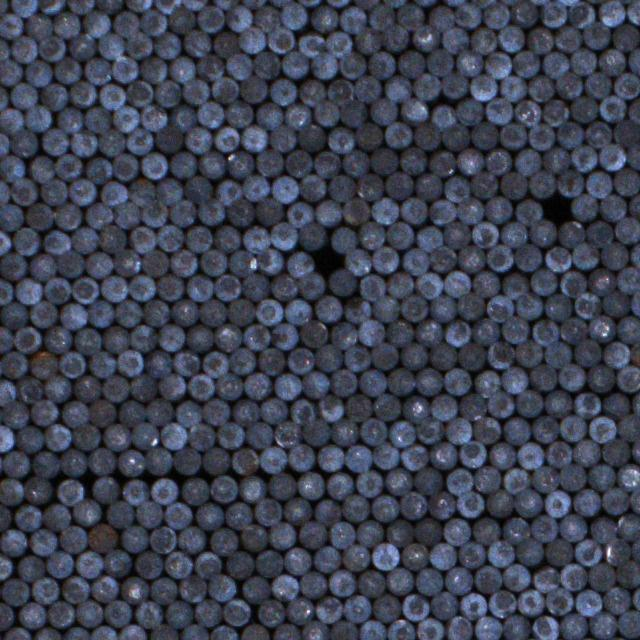tool: (156, 125, 184, 154), (146, 446, 174, 474), (471, 122, 499, 150), (182, 29, 210, 57), (582, 22, 610, 50), (198, 198, 226, 226), (514, 488, 542, 516), (56, 153, 84, 181), (472, 518, 500, 546), (256, 102, 284, 130), (414, 467, 442, 495), (28, 526, 56, 554), (207, 574, 235, 602), (53, 202, 81, 230), (16, 426, 44, 454), (588, 612, 616, 640), (88, 522, 116, 550), (43, 502, 71, 530), (72, 374, 100, 402), (256, 197, 284, 225), (600, 439, 628, 467), (14, 504, 42, 532), (24, 476, 52, 504), (283, 548, 310, 576), (361, 416, 388, 444), (203, 447, 230, 475), (256, 148, 283, 176), (115, 300, 142, 328), (342, 542, 369, 570), (598, 96, 626, 123), (301, 320, 328, 348), (253, 52, 280, 80), (558, 514, 585, 542), (544, 391, 572, 418), (56, 479, 84, 506), (195, 552, 222, 580), (141, 248, 168, 276), (558, 362, 586, 389), (270, 220, 297, 248), (587, 462, 614, 490), (223, 598, 250, 626), (384, 468, 411, 496), (528, 362, 555, 390), (342, 594, 369, 622), (218, 420, 245, 448), (285, 596, 312, 624), (373, 594, 400, 622), (474, 564, 501, 592), (255, 550, 282, 578), (30, 576, 57, 604), (210, 526, 237, 554), (61, 575, 88, 603), (71, 424, 99, 451), (546, 588, 573, 616), (272, 372, 300, 399), (76, 550, 103, 578), (0, 578, 27, 606), (224, 100, 251, 128), (184, 324, 212, 351), (59, 525, 86, 553), (43, 127, 70, 155), (82, 9, 110, 36), (26, 255, 54, 282), (344, 296, 371, 324), (173, 448, 200, 475), (502, 317, 529, 344), (598, 143, 625, 170), (253, 497, 280, 524), (373, 394, 400, 421), (115, 349, 142, 376), (487, 342, 514, 369), (545, 537, 572, 564), (270, 573, 297, 600), (103, 424, 130, 451), (385, 172, 412, 199), (487, 489, 514, 516), (414, 72, 441, 99), (185, 176, 212, 203), (88, 349, 115, 376), (516, 340, 543, 367), (98, 225, 125, 252), (88, 448, 115, 475), (131, 421, 158, 448), (268, 26, 295, 53), (32, 450, 59, 477), (199, 298, 225, 326), (488, 590, 514, 618), (386, 518, 412, 546), (271, 175, 297, 203), (135, 552, 161, 580), (73, 274, 99, 302), (414, 366, 440, 394), (227, 550, 253, 578), (151, 526, 177, 554), (385, 566, 411, 594), (588, 562, 614, 590), (113, 154, 139, 182), (256, 298, 282, 326), (262, 446, 288, 474), (242, 576, 268, 604), (72, 498, 100, 524), (114, 248, 140, 276), (516, 536, 542, 564), (170, 248, 196, 276), (502, 364, 528, 392), (368, 52, 394, 80), (400, 492, 426, 520), (243, 372, 269, 400), (559, 564, 585, 592), (342, 495, 368, 523), (11, 228, 37, 256), (126, 129, 154, 155), (157, 324, 183, 352), (328, 174, 354, 202), (402, 592, 428, 620), (300, 221, 326, 249), (503, 564, 529, 592), (528, 218, 554, 246), (584, 120, 610, 148), (614, 167, 640, 195), (556, 122, 582, 150), (328, 520, 354, 548), (28, 352, 56, 378), (358, 220, 384, 248), (372, 342, 398, 370), (122, 576, 148, 604), (372, 246, 398, 274), (332, 420, 358, 448), (431, 592, 457, 620), (188, 422, 214, 450), (268, 77, 294, 105), (178, 574, 204, 602), (136, 600, 162, 628), (215, 324, 241, 352), (516, 390, 542, 418), (446, 566, 472, 594), (486, 96, 512, 124), (340, 52, 366, 80), (544, 292, 570, 320), (103, 550, 129, 578), (258, 348, 286, 374), (46, 324, 72, 352), (544, 340, 570, 368), (387, 366, 413, 394), (202, 350, 228, 378), (166, 600, 192, 628), (194, 598, 220, 626), (140, 198, 166, 226), (14, 278, 42, 304), (298, 470, 324, 498), (202, 398, 228, 426), (458, 591, 484, 619), (342, 148, 368, 176), (484, 52, 510, 80), (314, 198, 340, 226), (60, 448, 86, 476), (76, 598, 102, 626), (242, 225, 268, 253), (45, 424, 71, 452), (403, 248, 429, 276), (284, 148, 310, 176), (186, 374, 212, 402), (443, 518, 469, 546), (24, 103, 50, 131), (242, 174, 268, 202), (87, 300, 113, 328), (28, 398, 56, 424), (46, 600, 72, 628), (574, 290, 600, 318), (300, 174, 326, 202), (18, 602, 46, 628), (518, 442, 544, 470), (472, 317, 498, 345), (401, 294, 427, 322), (356, 172, 382, 200), (302, 371, 328, 399), (414, 516, 440, 544), (614, 22, 640, 50), (156, 176, 182, 204), (45, 374, 71, 402), (298, 80, 326, 106), (102, 326, 128, 354), (528, 169, 554, 197), (146, 350, 172, 378), (199, 150, 225, 178), (98, 128, 124, 156), (456, 196, 482, 224), (340, 5, 366, 33), (92, 574, 118, 602), (130, 374, 156, 402), (444, 220, 470, 248), (572, 194, 598, 222), (310, 4, 336, 32), (382, 23, 408, 51), (212, 225, 238, 253), (331, 322, 357, 350), (298, 123, 324, 151), (554, 24, 580, 52), (456, 292, 482, 320), (415, 122, 441, 150), (228, 198, 254, 226), (330, 270, 358, 296), (274, 421, 300, 449), (328, 472, 354, 500), (60, 302, 86, 330), (604, 538, 630, 566), (16, 554, 44, 580), (298, 32, 326, 58), (94, 475, 120, 503), (144, 299, 170, 326), (258, 599, 284, 626), (12, 177, 38, 204), (100, 275, 126, 302), (113, 104, 139, 131), (200, 249, 227, 275), (229, 299, 255, 326), (239, 76, 265, 103), (140, 105, 166, 132), (574, 439, 600, 466), (198, 101, 224, 128), (56, 250, 83, 276), (414, 568, 441, 594), (572, 489, 598, 516), (486, 540, 512, 567), (167, 501, 193, 528), (471, 170, 497, 197), (571, 242, 597, 269), (517, 588, 543, 615), (127, 32, 153, 59), (514, 243, 540, 270), (512, 51, 538, 78), (472, 220, 498, 247), (558, 415, 584, 442), (185, 224, 212, 250), (25, 202, 52, 228), (85, 59, 112, 85), (359, 368, 386, 394), (571, 144, 597, 171), (484, 197, 510, 224), (14, 326, 41, 352), (458, 442, 484, 469), (401, 198, 427, 225), (346, 445, 372, 472), (431, 442, 457, 469), (544, 489, 570, 516), (588, 315, 614, 342), (159, 374, 186, 400), (344, 393, 370, 420), (372, 198, 398, 225), (558, 464, 584, 491), (197, 5, 223, 32), (187, 274, 214, 300), (356, 469, 382, 496), (310, 53, 336, 80), (55, 57, 81, 84), (473, 416, 500, 442), (185, 128, 212, 154), (210, 475, 236, 502), (384, 122, 411, 148), (147, 399, 173, 426), (179, 526, 205, 553), (415, 173, 441, 200), (415, 319, 441, 346), (161, 424, 187, 451), (314, 345, 340, 372), (155, 81, 181, 108), (557, 170, 583, 197), (455, 98, 481, 125), (503, 418, 530, 444), (352, 76, 378, 103), (104, 599, 130, 626), (69, 178, 96, 204), (386, 222, 412, 249), (570, 47, 596, 74), (241, 126, 267, 153), (41, 84, 68, 110), (76, 328, 102, 355), (173, 400, 200, 426), (428, 491, 454, 518), (328, 570, 354, 597), (430, 541, 456, 568), (402, 342, 428, 369), (268, 474, 294, 501), (318, 394, 344, 421), (604, 587, 630, 614), (281, 51, 307, 78), (41, 178, 68, 204), (588, 416, 614, 443), (215, 373, 241, 400), (154, 31, 180, 58), (531, 416, 557, 443), (226, 501, 252, 528), (312, 151, 338, 178), (588, 363, 614, 390), (130, 325, 156, 352), (231, 398, 258, 424), (511, 0, 538, 26), (314, 294, 340, 321), (210, 77, 237, 103), (502, 518, 529, 544), (358, 569, 384, 596), (168, 7, 194, 34), (197, 502, 223, 529), (152, 477, 178, 504), (136, 501, 162, 528), (68, 34, 95, 60), (150, 577, 176, 604), (598, 49, 624, 76), (598, 194, 624, 221), (258, 249, 284, 276), (226, 5, 252, 32), (541, 52, 567, 79), (370, 98, 396, 125), (585, 170, 611, 197), (184, 477, 210, 504), (540, 98, 566, 125), (85, 105, 111, 132), (1, 451, 28, 477), (43, 230, 70, 256), (280, 1, 306, 28), (98, 84, 125, 110), (604, 392, 631, 418), (588, 269, 614, 296), (86, 202, 113, 228), (412, 24, 438, 51), (442, 123, 468, 150), (556, 71, 582, 98), (169, 105, 195, 132), (111, 12, 138, 38), (396, 3, 423, 29), (515, 200, 542, 226), (1, 401, 27, 428), (128, 178, 154, 205), (482, 1, 508, 28), (615, 558, 640, 586), (456, 491, 484, 516), (444, 367, 469, 395), (341, 99, 366, 127), (457, 246, 482, 274), (401, 147, 426, 175), (0, 252, 25, 280), (458, 342, 483, 370), (404, 396, 429, 424), (269, 522, 295, 548), (232, 448, 258, 474), (242, 324, 268, 350), (559, 614, 585, 640), (164, 552, 190, 578), (128, 274, 154, 300), (475, 467, 501, 493), (559, 318, 585, 344), (158, 274, 184, 300), (456, 149, 482, 175), (30, 302, 56, 328), (300, 570, 326, 596), (288, 445, 314, 471), (415, 273, 441, 299), (183, 78, 209, 104), (546, 442, 572, 468), (85, 251, 111, 277), (230, 348, 256, 374), (374, 443, 400, 469), (473, 272, 499, 298), (168, 200, 194, 226), (284, 498, 310, 524), (301, 418, 327, 444), (488, 391, 514, 417), (98, 34, 124, 60), (158, 224, 184, 250), (402, 542, 428, 568), (46, 552, 72, 578), (101, 376, 127, 402), (526, 124, 552, 150), (502, 172, 528, 198), (532, 465, 558, 491), (171, 299, 197, 325), (227, 152, 253, 178), (574, 392, 600, 418), (346, 249, 372, 275), (458, 393, 484, 419), (24, 60, 50, 86), (214, 274, 240, 300), (42, 277, 68, 303), (318, 445, 344, 471), (530, 514, 556, 540), (238, 27, 264, 53), (514, 99, 540, 125), (501, 222, 527, 248), (313, 546, 339, 572), (442, 27, 468, 53), (270, 322, 296, 348), (100, 180, 126, 206), (574, 340, 600, 366), (372, 542, 398, 568), (129, 226, 155, 252), (226, 53, 252, 79), (246, 422, 272, 448), (343, 344, 369, 370), (499, 74, 525, 100), (374, 294, 400, 320), (398, 52, 424, 78), (356, 520, 382, 546), (142, 152, 168, 178), (69, 82, 95, 108), (430, 200, 456, 226), (600, 0, 626, 26), (372, 496, 398, 522), (300, 522, 326, 548), (196, 55, 222, 81), (544, 246, 570, 272), (169, 151, 195, 177), (168, 58, 194, 84), (530, 270, 556, 296), (444, 272, 470, 298), (126, 80, 152, 106), (526, 74, 552, 100), (542, 1, 568, 27), (585, 72, 611, 98), (53, 11, 79, 37), (485, 149, 511, 175), (359, 320, 385, 346), (112, 56, 138, 82), (403, 444, 429, 470), (370, 148, 396, 174), (572, 96, 598, 122), (472, 76, 498, 102), (574, 538, 600, 564), (139, 56, 165, 82), (328, 128, 354, 154), (488, 443, 514, 469), (72, 228, 98, 254), (118, 450, 144, 476), (122, 525, 148, 551), (602, 488, 628, 514), (40, 34, 66, 60), (586, 221, 612, 247), (558, 221, 584, 247), (12, 36, 38, 62), (442, 72, 468, 98), (383, 75, 409, 101), (354, 124, 380, 150), (314, 596, 340, 622), (430, 294, 456, 320), (428, 248, 454, 274), (59, 351, 85, 377), (432, 342, 458, 368), (270, 126, 296, 152), (284, 299, 310, 325), (299, 272, 325, 298), (575, 590, 601, 616), (327, 78, 353, 104), (240, 524, 266, 550), (288, 202, 314, 228), (487, 294, 513, 320), (516, 292, 542, 318), (415, 224, 441, 250), (230, 250, 256, 276), (172, 348, 198, 374), (12, 84, 38, 110), (342, 198, 368, 224), (474, 369, 500, 395), (286, 252, 312, 278), (600, 242, 626, 268), (290, 399, 316, 425), (16, 376, 42, 402), (142, 10, 168, 36), (26, 14, 52, 40), (109, 502, 135, 528), (360, 275, 386, 301), (526, 28, 552, 54), (428, 149, 454, 175), (11, 130, 37, 156), (429, 6, 455, 32), (444, 321, 470, 347), (118, 400, 144, 426), (558, 270, 584, 296), (238, 476, 264, 502), (416, 416, 442, 442), (72, 130, 98, 156), (272, 274, 298, 300), (542, 146, 568, 172), (286, 103, 312, 129), (590, 516, 616, 542), (531, 567, 557, 593), (354, 26, 380, 52), (605, 342, 631, 368), (62, 401, 88, 427), (533, 319, 559, 345), (502, 272, 528, 298), (368, 4, 394, 30), (214, 178, 240, 204), (331, 226, 357, 252), (314, 500, 340, 526), (255, 6, 281, 32), (454, 2, 480, 28), (402, 98, 428, 124), (568, 1, 594, 27), (602, 290, 628, 316), (57, 106, 83, 132), (124, 479, 150, 505), (243, 274, 269, 300), (0, 351, 25, 378), (615, 72, 640, 99), (615, 217, 640, 244), (331, 369, 356, 396), (487, 244, 512, 271), (448, 468, 473, 495), (458, 540, 483, 567), (0, 302, 25, 329), (516, 149, 541, 176), (90, 400, 114, 428), (503, 615, 529, 640), (327, 30, 352, 56), (426, 49, 452, 74), (457, 49, 482, 75), (445, 418, 471, 443), (286, 348, 312, 373), (502, 124, 527, 150), (504, 467, 530, 492), (391, 420, 416, 446), (261, 397, 287, 422), (430, 394, 456, 419), (471, 28, 496, 54), (386, 321, 412, 346), (387, 272, 412, 298), (444, 176, 469, 202), (616, 364, 640, 391), (617, 314, 640, 342), (1, 527, 24, 555), (497, 27, 522, 52), (212, 32, 237, 57), (476, 616, 502, 640), (314, 99, 338, 125), (116, 202, 140, 228), (533, 616, 559, 640), (616, 120, 640, 146), (215, 127, 239, 153), (87, 158, 111, 184), (432, 102, 456, 128), (30, 156, 54, 182), (617, 512, 640, 539), (0, 155, 23, 182), (617, 464, 640, 491), (617, 266, 640, 293), (618, 610, 640, 638), (618, 413, 640, 441), (447, 616, 472, 640), (0, 108, 23, 134), (416, 618, 443, 640), (0, 478, 22, 504), (387, 619, 414, 640), (330, 620, 358, 640), (0, 204, 21, 230), (0, 12, 21, 38), (357, 620, 384, 640), (1, 59, 20, 85), (302, 621, 328, 640), (241, 624, 268, 640), (151, 624, 178, 640), (180, 624, 207, 640), (120, 625, 148, 640), (273, 624, 299, 640), (10, 0, 36, 16), (210, 625, 237, 640), (91, 626, 117, 640), (2, 627, 30, 640), (0, 378, 14, 404), (32, 627, 60, 640), (95, 0, 122, 13), (0, 602, 13, 629), (0, 425, 13, 452), (627, 143, 640, 169), (156, 0, 182, 13), (628, 46, 640, 74), (125, 0, 153, 12), (626, 0, 640, 24), (66, 0, 92, 12), (628, 192, 640, 218), (62, 628, 88, 640), (0, 554, 12, 580), (0, 278, 12, 304), (629, 241, 640, 269), (629, 98, 640, 124), (630, 486, 640, 514), (0, 502, 10, 530), (1, 328, 12, 353), (0, 229, 10, 256), (40, 1, 64, 12), (352, 0, 380, 9), (181, 0, 206, 10), (630, 341, 640, 366), (211, 0, 238, 9), (0, 132, 9, 158), (631, 536, 640, 562), (631, 289, 640, 315), (0, 180, 8, 208), (0, 38, 9, 62), (632, 390, 640, 417), (240, 0, 266, 8), (632, 439, 640, 465), (632, 585, 640, 611), (0, 85, 7, 111), (381, 0, 407, 7), (296, 0, 324, 6), (325, 0, 352, 6), (269, 0, 295, 6), (553, 0, 583, 5), (442, 0, 470, 5), (411, 0, 438, 5), (0, 0, 7, 16), (524, 0, 552, 4), (496, 0, 518, 5)
void: (313, 248, 346, 274), (542, 196, 574, 222)
